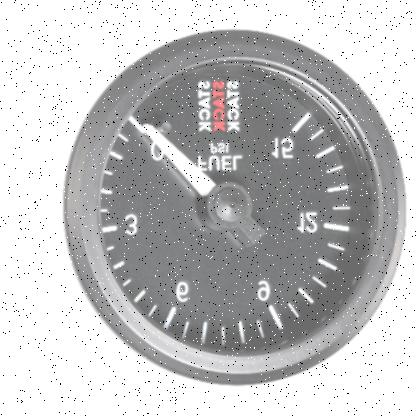needle: (139, 120, 217, 199)
